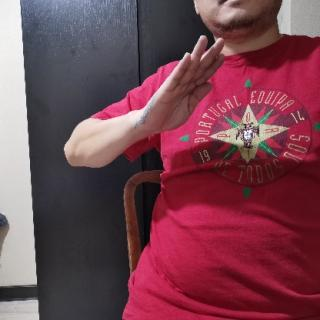SEEN: (138, 26, 227, 137)
